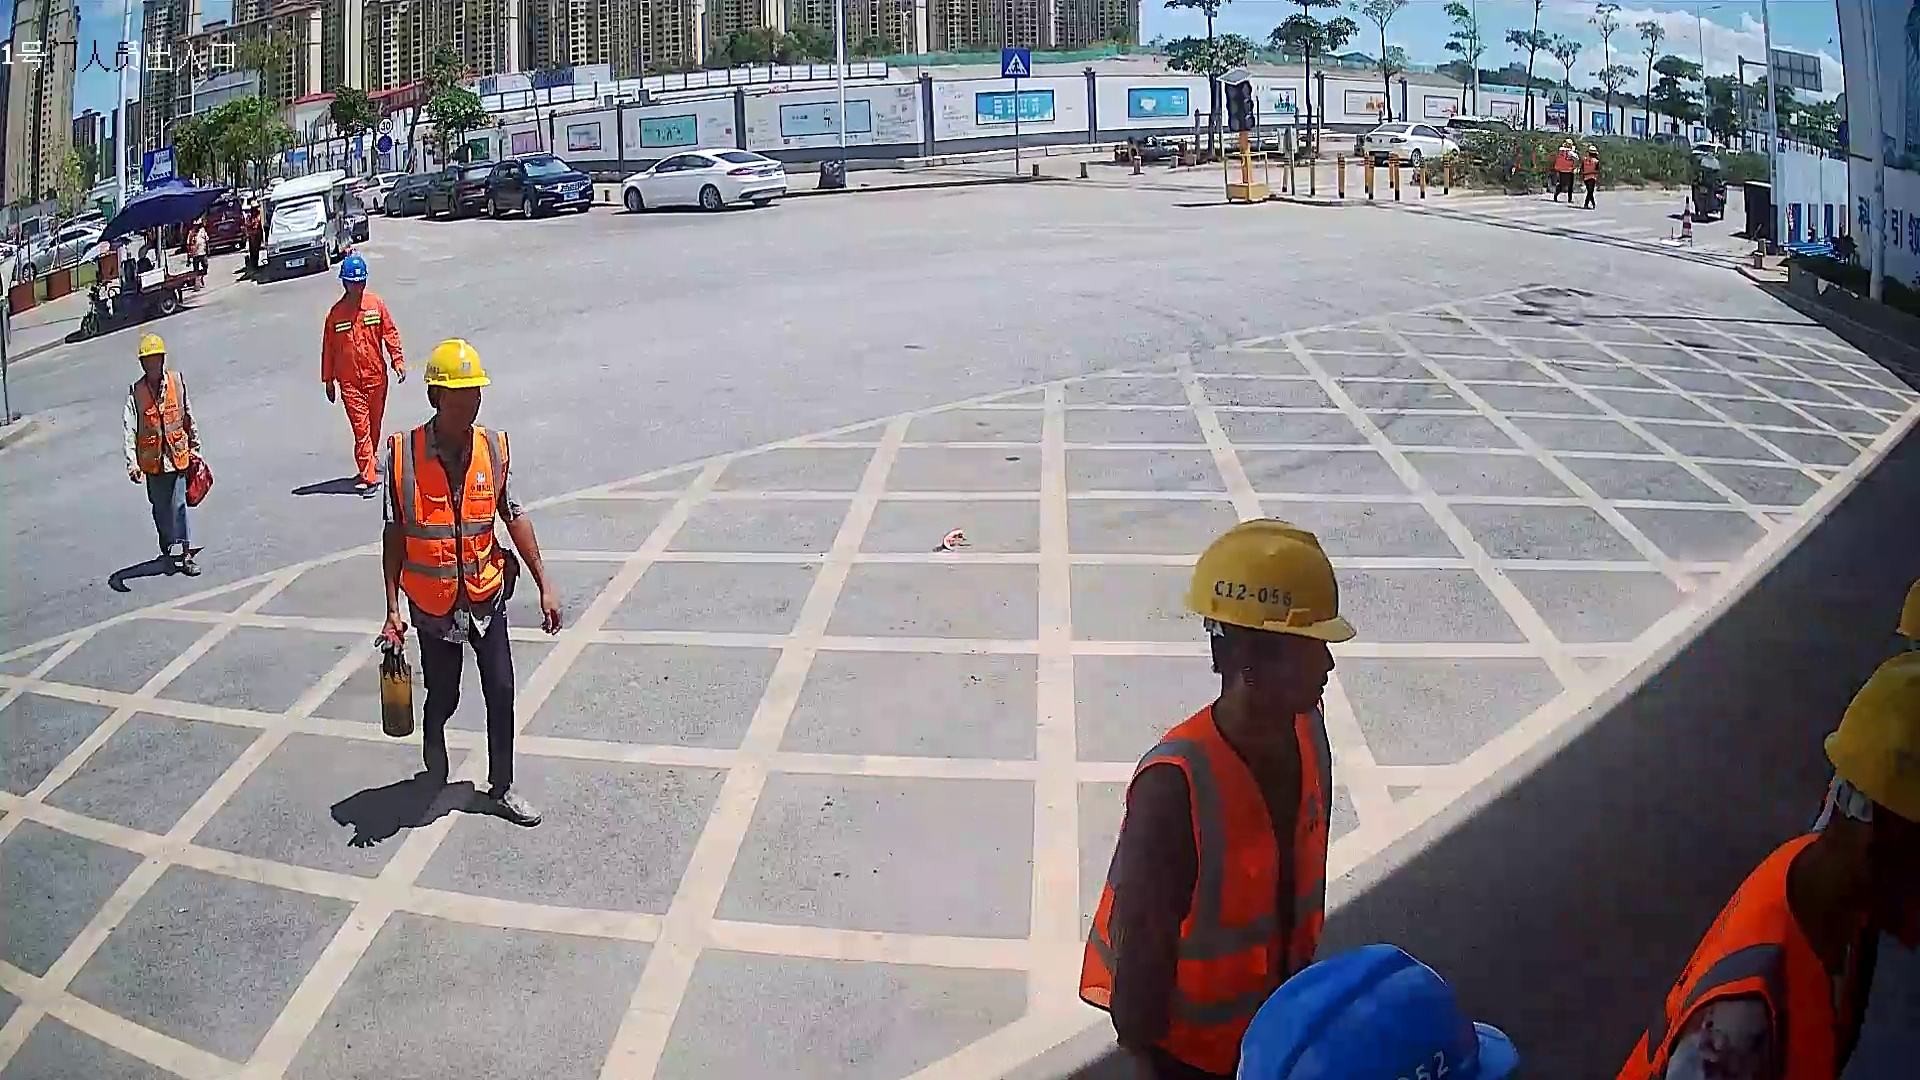person: (1073, 516, 1360, 1080), (377, 334, 566, 829), (119, 327, 215, 580), (316, 251, 409, 504)
reflective_vest: (1074, 699, 1325, 1075), (384, 424, 511, 616), (127, 368, 191, 472), (330, 293, 385, 380)
safety_helmet: (1228, 939, 1520, 1080), (1182, 515, 1361, 718), (423, 333, 492, 437), (135, 329, 167, 379), (337, 251, 367, 299)
